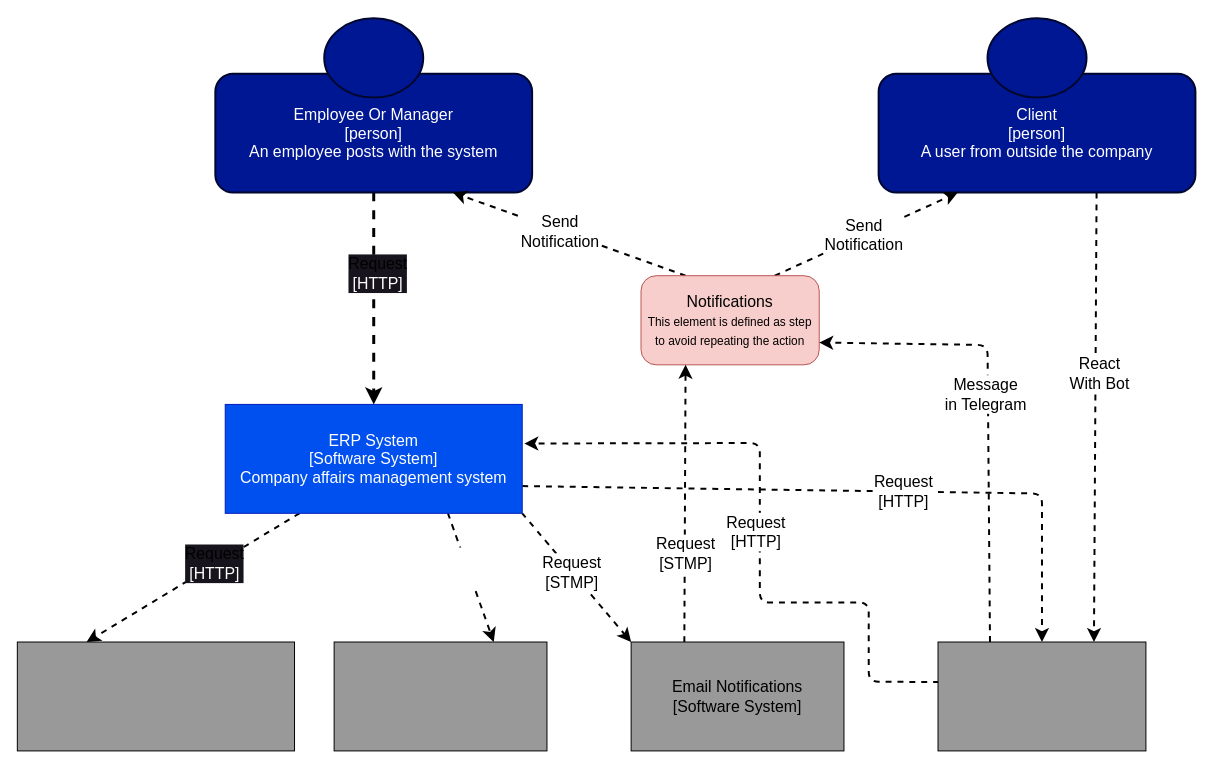
Some shapes in this 1214 by 768 pixel diagram are drawn without their labels. Here are the shapes that lost their labels. From the top down, the centre of each, then its label:
At pixel 155 696: "Shipping and delivery systems [Software System]".
At pixel 440 696: "OpenAI [Software System]".
At pixel 1041 696: "Telegram [Software System]".
